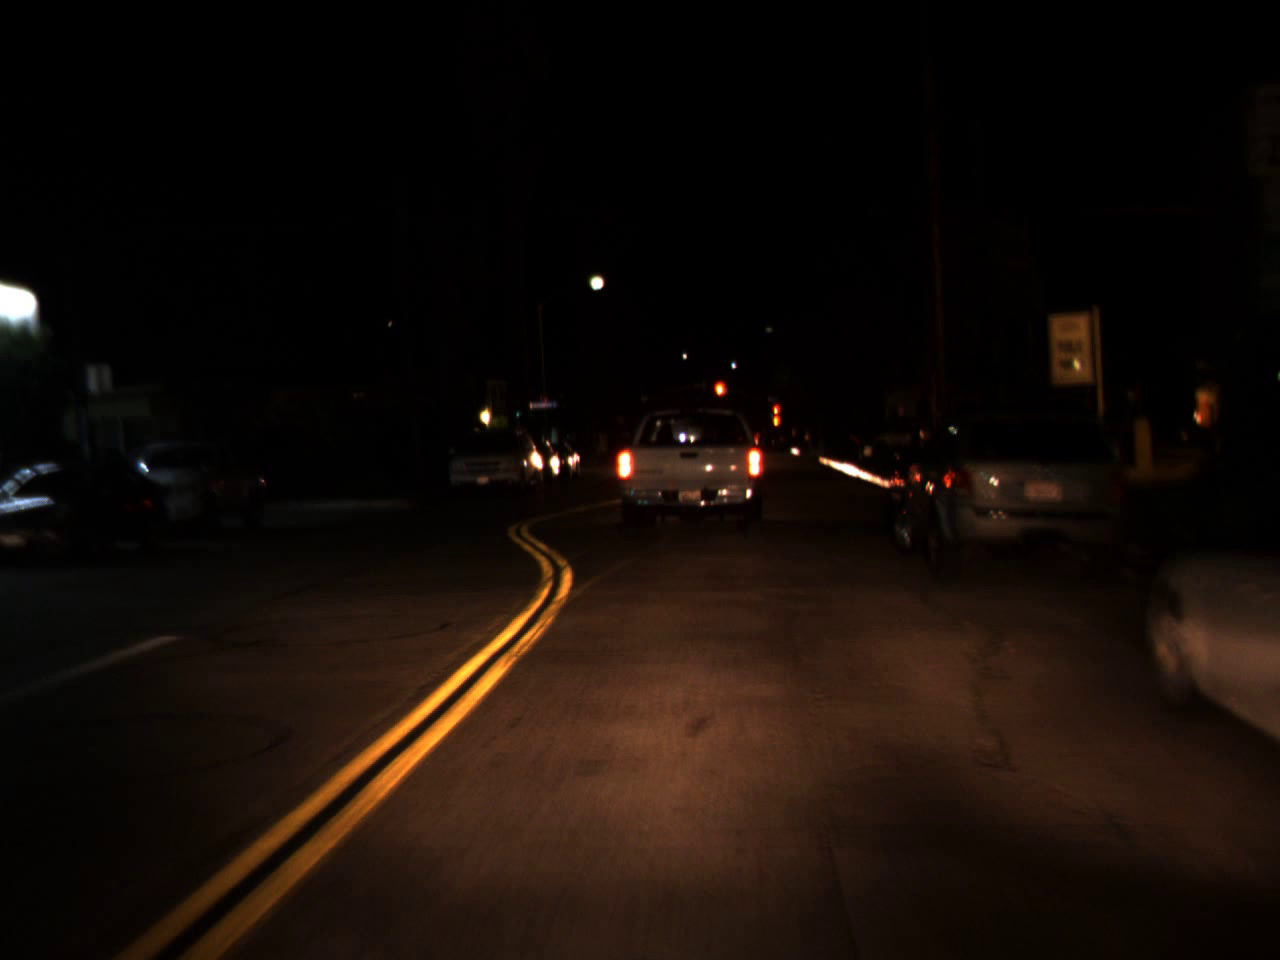stop: (712, 378, 728, 415), (771, 401, 780, 425)
